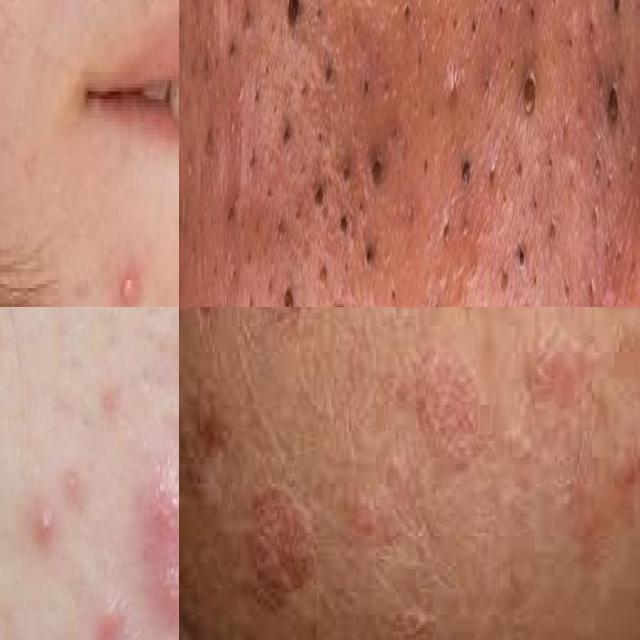comedone: (518, 71, 544, 126), (604, 69, 623, 144), (335, 199, 351, 259), (455, 148, 475, 195), (370, 139, 384, 202), (286, 0, 306, 41), (361, 238, 378, 282), (310, 180, 326, 225), (516, 237, 531, 284), (280, 121, 298, 151), (340, 148, 351, 195), (280, 279, 296, 307), (330, 291, 345, 307)
flat_wart: (235, 480, 326, 616), (179, 307, 217, 362), (252, 307, 326, 335)
papule: (91, 586, 141, 640)
sebo-crystan-conglo: (140, 434, 179, 640), (27, 494, 71, 606)
